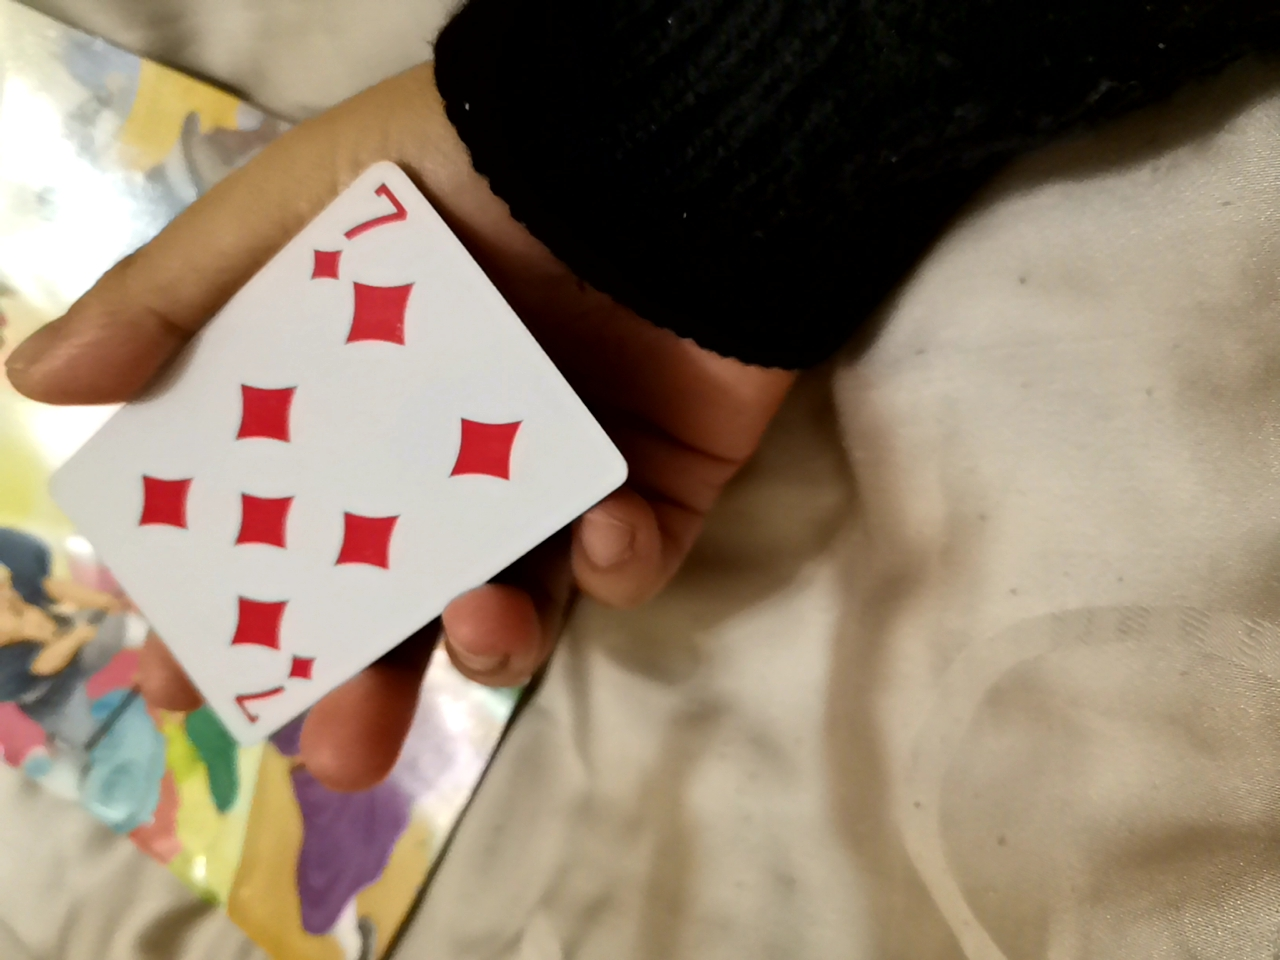fk 7: (43, 232, 639, 733)
